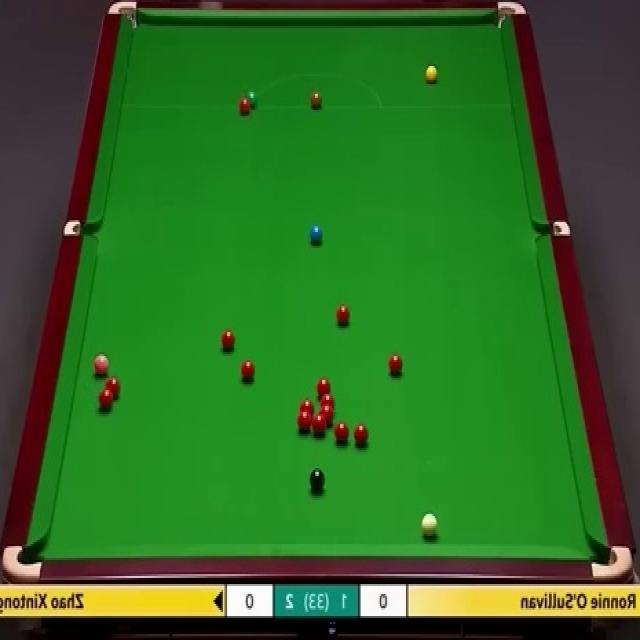black-ball: (309, 467, 325, 493)
blue-ball: (310, 224, 323, 242)
brown-ball: (310, 92, 323, 109)
green-ball: (245, 89, 258, 108)
pink-ball: (92, 353, 110, 374)
red-ball: (105, 377, 122, 400), (312, 414, 326, 439), (388, 354, 404, 375), (240, 361, 256, 382), (296, 411, 312, 432), (334, 421, 349, 443), (353, 423, 368, 445), (337, 303, 351, 324), (300, 398, 314, 416), (222, 330, 234, 350), (321, 408, 334, 426), (99, 391, 112, 409), (318, 377, 329, 398), (321, 397, 334, 413), (239, 98, 249, 114)
white-ball: (420, 513, 438, 537)
yellow-ball: (426, 64, 438, 85)
